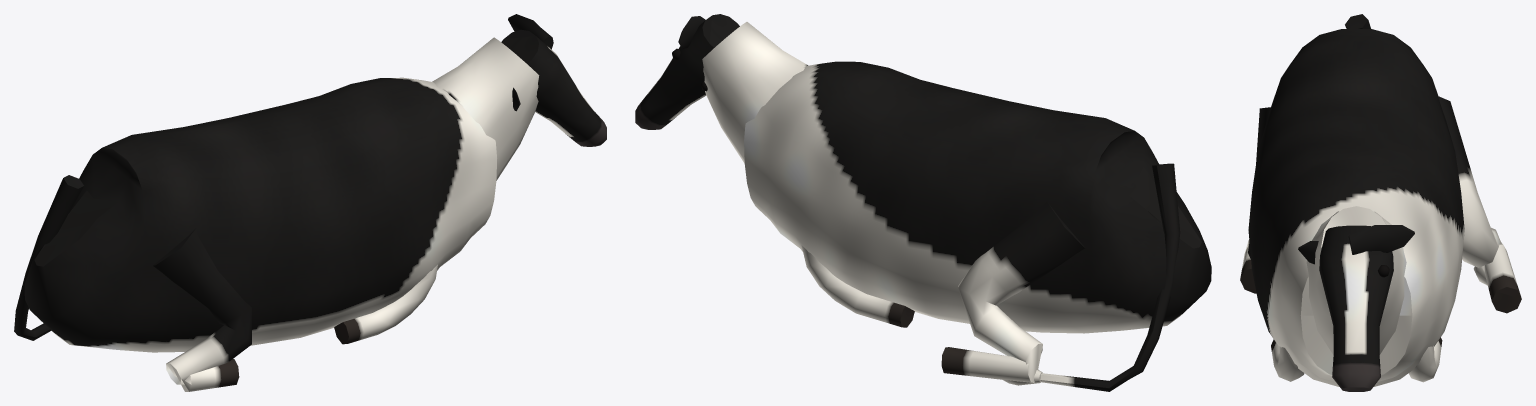
Rendered from tpl_life_herd_1970_cattle_holstein_lie.glb.
3 views of the same model, side by side, from view 1: azimuth 30°, elevation 25°; view 2: azimuth 150°, elevation 25°; view 3: azimuth 270°, elevation 25° (orthographic). The views are drawn at different scales.
Visible parts, largest first — view 1: tpl_life_herd_1970_cattle_holstein_lie; view 2: tpl_life_herd_1970_cattle_holstein_lie; view 3: tpl_life_herd_1970_cattle_holstein_lie.
Part boxes in pixels (x1,y1,x2,y2): tpl_life_herd_1970_cattle_holstein_lie: (14, 14, 606, 391); tpl_life_herd_1970_cattle_holstein_lie: (635, 14, 1211, 391); tpl_life_herd_1970_cattle_holstein_lie: (1240, 14, 1521, 391).
Size of the model in its own units: 2.32 by 0.9312 by 0.9187.
2 materials, 1 textured.
